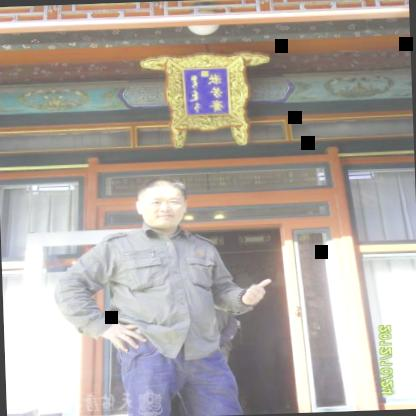head: (132, 174, 190, 230)
